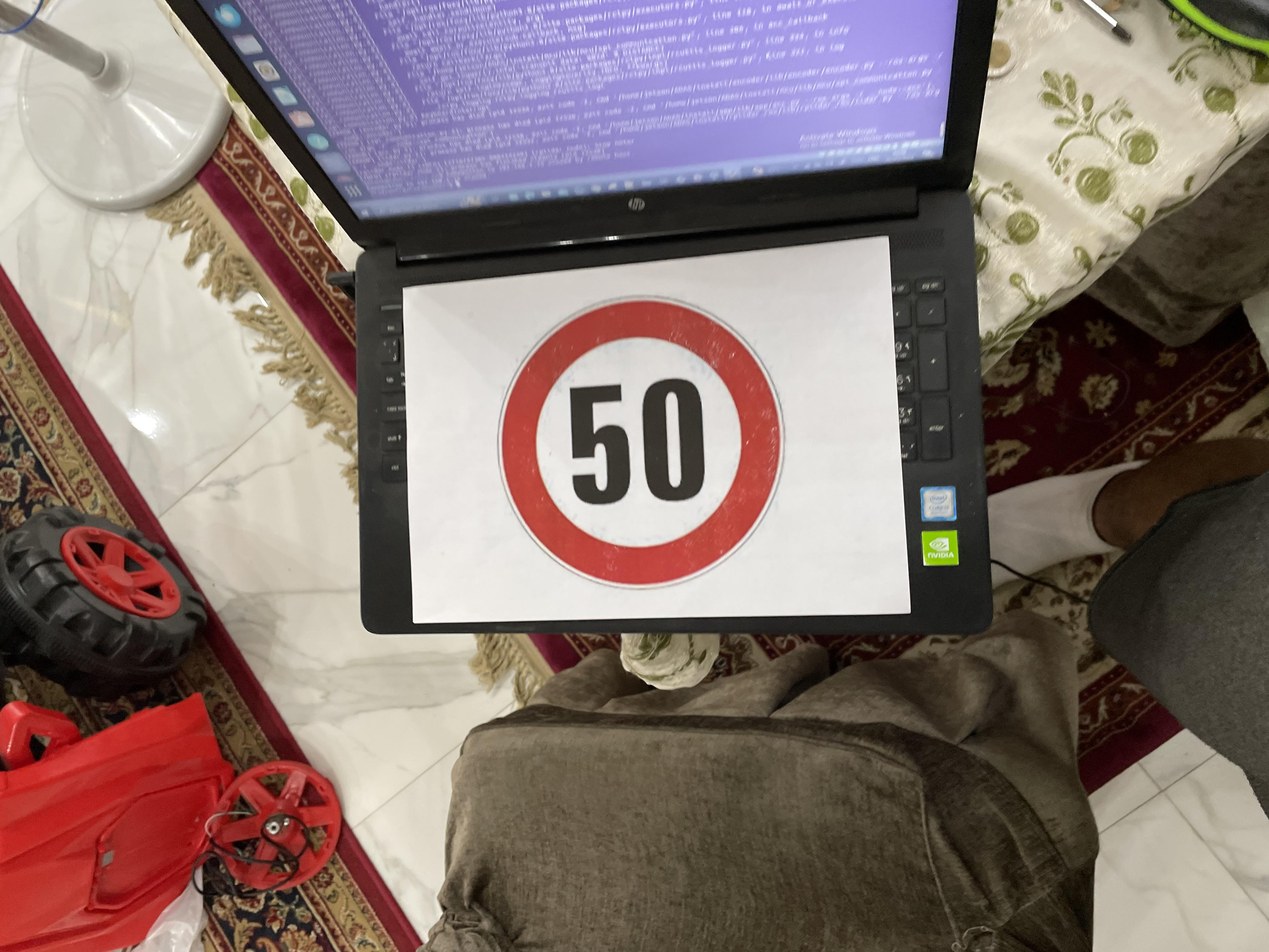50-Speed: (475, 352, 885, 604)
